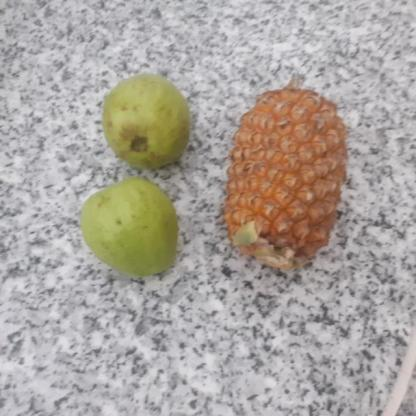guava: (75, 180, 180, 278), (98, 76, 190, 170)
pineapple: (219, 83, 348, 270)
